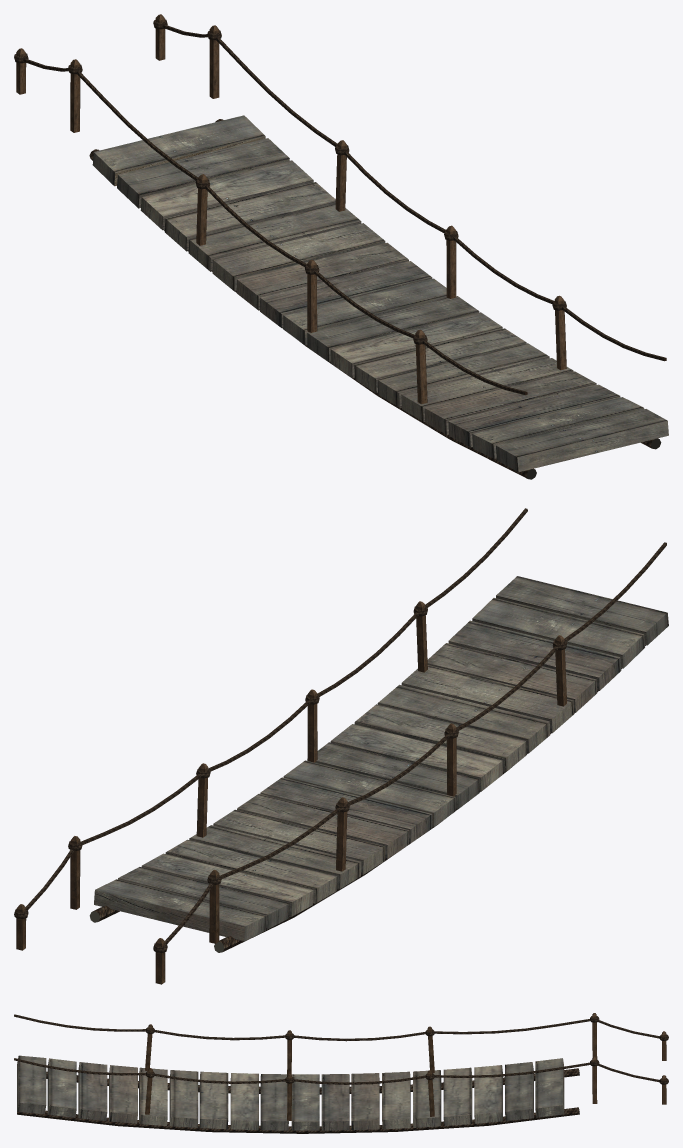
The model's file is FortBridge1.dae.
The picture shows the model from 3 angles, top to bottom: view 1: azimuth 30°, elevation 25°; view 2: azimuth 150°, elevation 25°; view 3: azimuth 270°, elevation 25°; orthographic projection. The views are drawn at different scales.
Visible parts, largest first — view 1: forts_stone-0; view 2: forts_stone-0; view 3: forts_stone-0.
Part boxes in pixels (x1,y1,x2,y2): forts_stone-0: (14,14,668,479); forts_stone-0: (14,508,668,984); forts_stone-0: (14,1013,668,1133).
Bounding box in the file's own units: 2.46 × 1.89 × 14.19.
